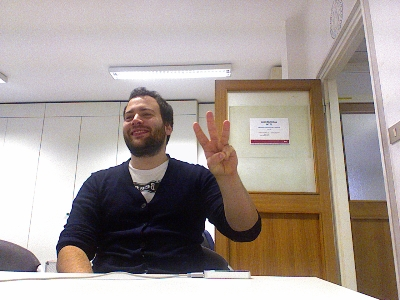三分: (192, 110, 239, 176)
